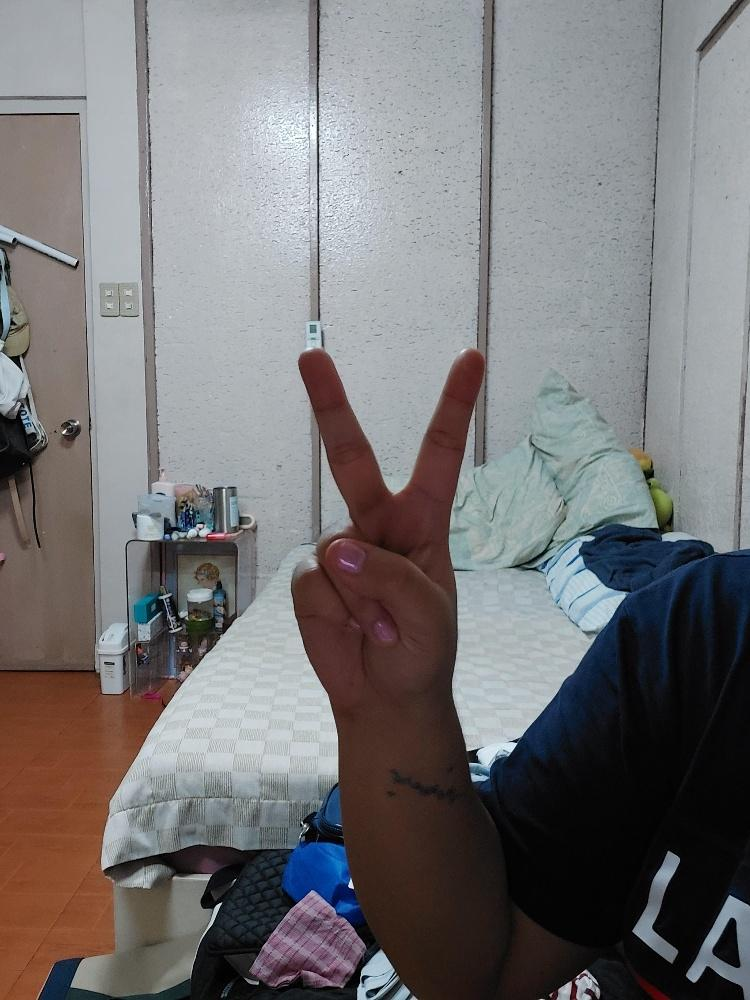v: (289, 346, 485, 711)
